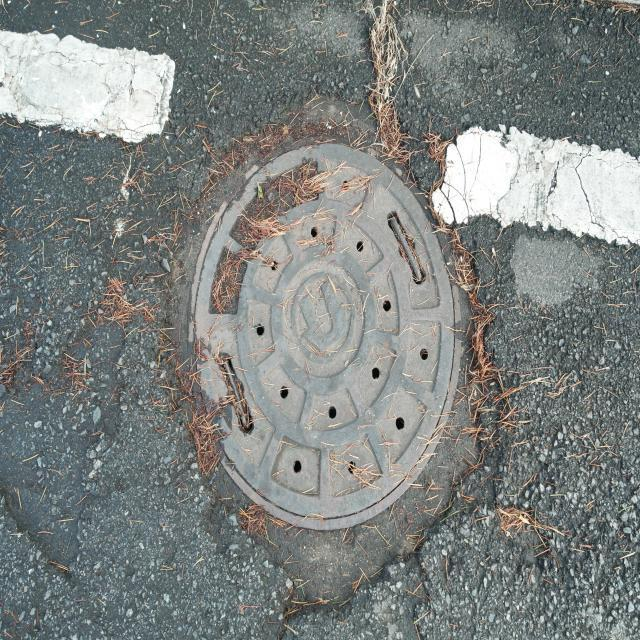manhole: (177, 142, 474, 533)
